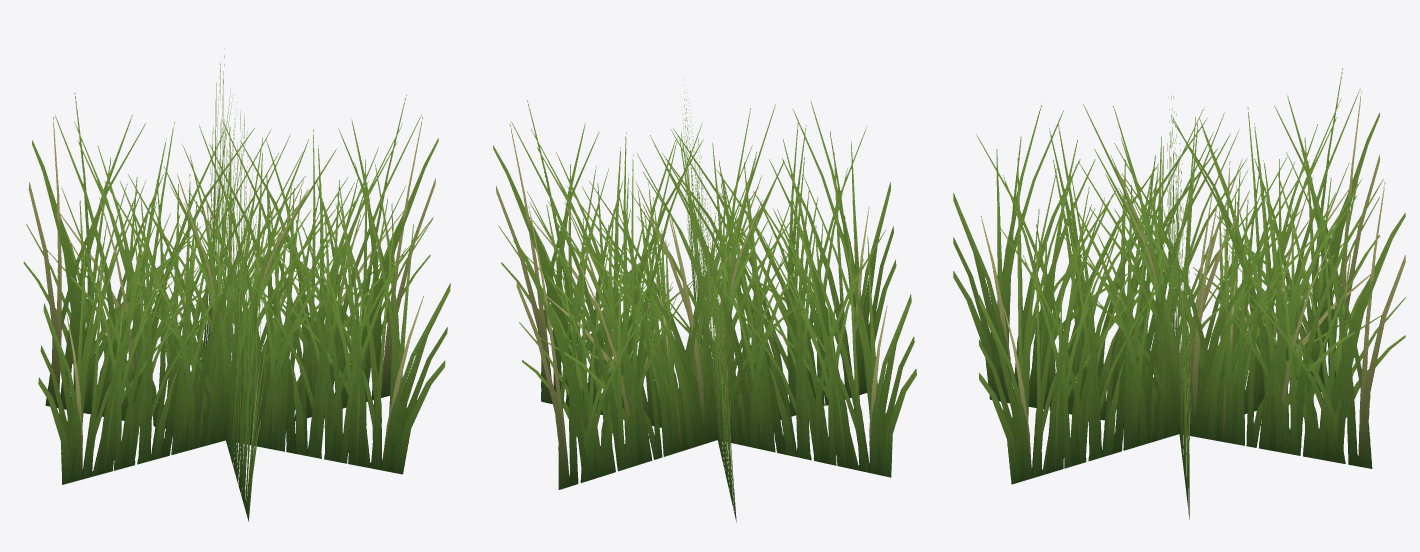
File: grass_clump.glb
3 views of the same model, side by side, from view 1: azimuth 30°, elevation 25°; view 2: azimuth 150°, elevation 25°; view 3: azimuth 270°, elevation 25° (orthographic). The views are drawn at different scales.
Visible parts, largest first — view 1: grass_clump; view 2: grass_clump; view 3: grass_clump.
Boxes of the visible parts, <box> form: grass_clump: <box>23,49,450,521</box>; grass_clump: <box>493,78,916,522</box>; grass_clump: <box>953,68,1405,519</box>.
Bounding box in the file's own units: 0.9489 × 0.6914 × 0.8271.
1 material, 1 textured.
